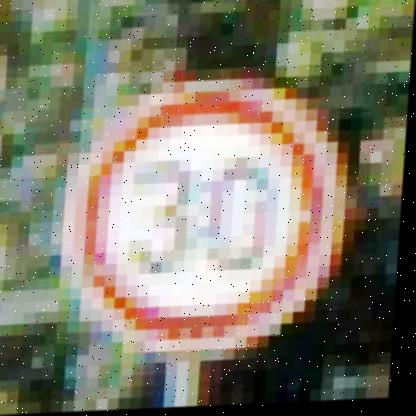Speed Limit -30-: (64, 76, 357, 358)
